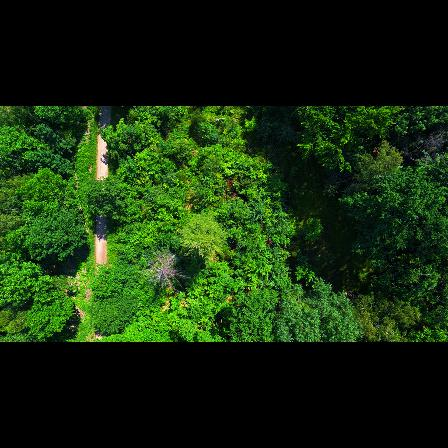Dead: (144, 247, 190, 300)
